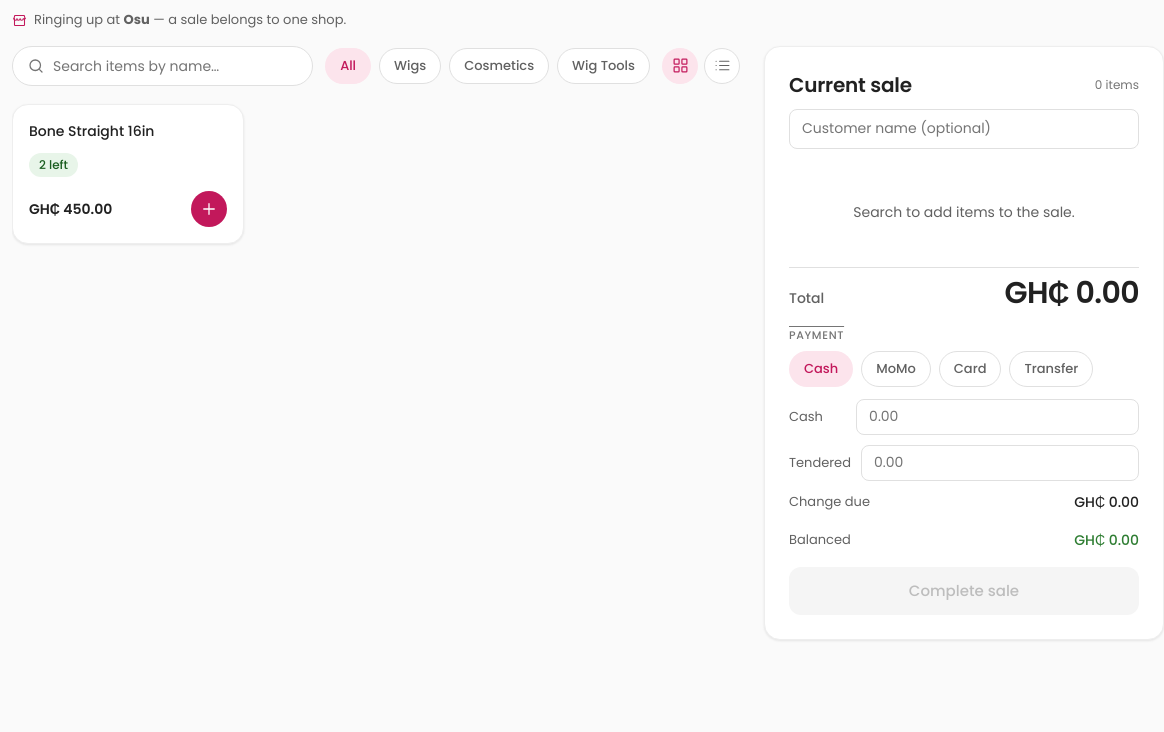
Test: SellView — sending a Sale on a flaky connection › never shows raw database text
Click the button named "Add Bone Straight 16in": coordinates (209, 209) [191, 191, 227, 227]
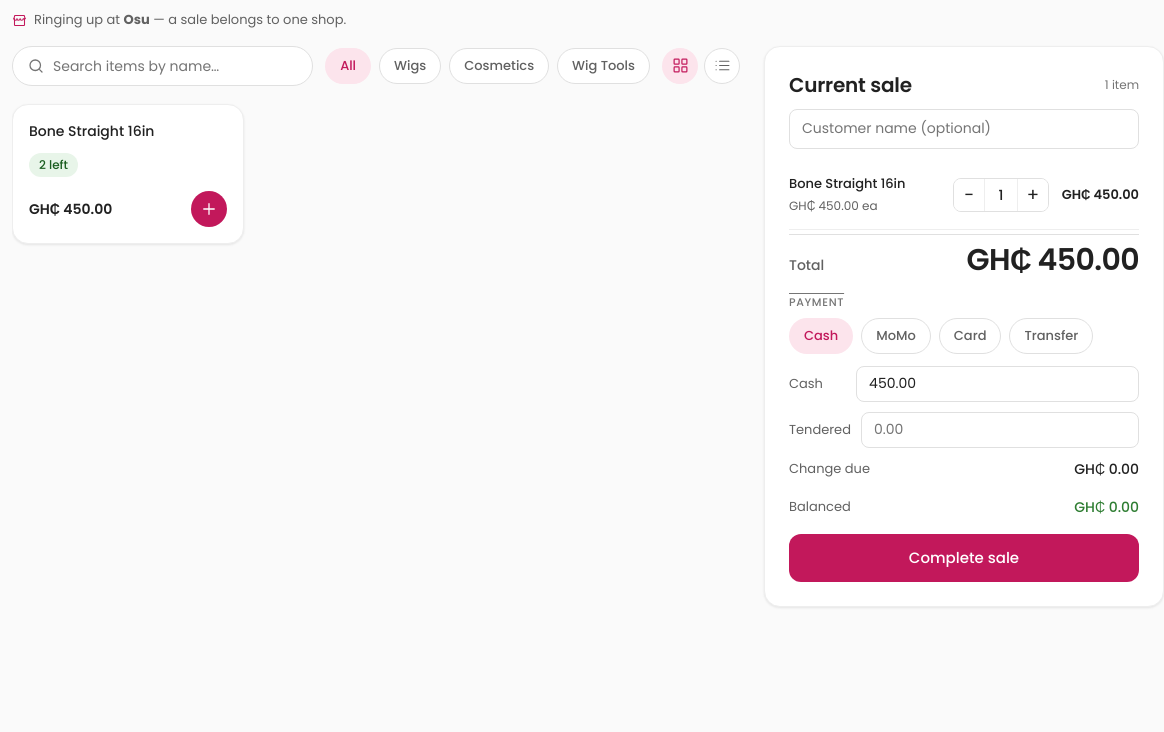
Click the button "Complete sale": coordinates (964, 558) [789, 534, 1139, 582]
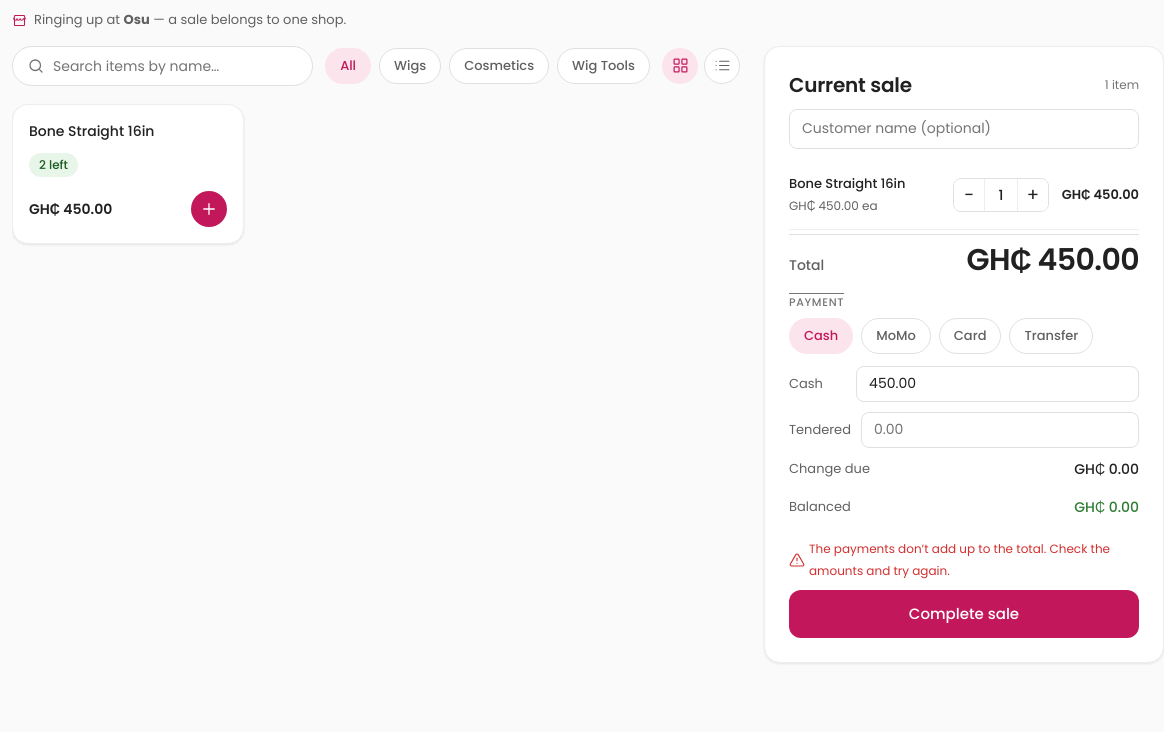
Expected: the message shows "don’t add up", [809, 540, 1110, 579]
